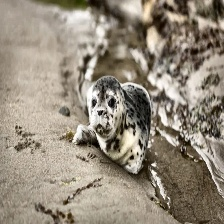seal: (72, 76, 152, 175)
